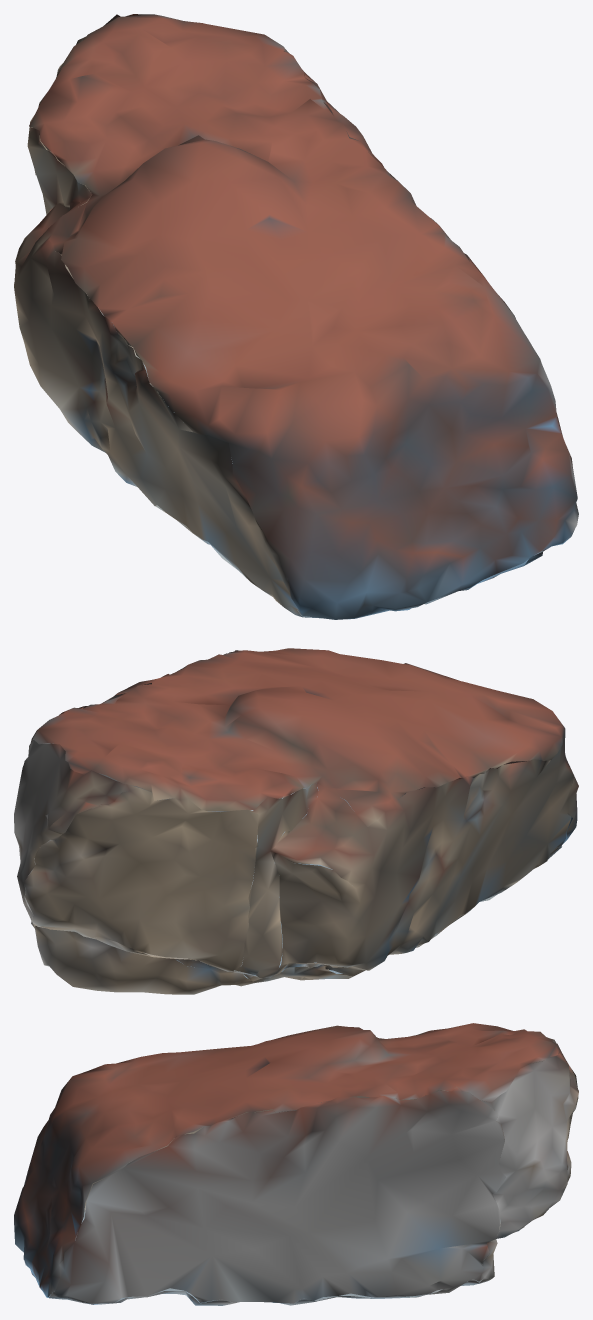
Rendered from FieldRock2.fbx.
3 renders of one model, top to bottom at view 1: azimuth 30°, elevation 25°; view 2: azimuth 150°, elevation 25°; view 3: azimuth 270°, elevation 25°, orthographic. The views are drawn at different scales.
Visible parts, largest first — view 1: FieldRock2_LOD0; view 2: FieldRock2_LOD0; view 3: FieldRock2_LOD0.
Part boxes in pixels (bbox=[...]): FieldRock2_LOD0: bbox=[14, 14, 578, 619]; FieldRock2_LOD0: bbox=[14, 648, 578, 994]; FieldRock2_LOD0: bbox=[14, 1023, 578, 1305].
Size of what is drawn, in the model's own units: 0.1687 by 0.1437 by 0.3202.
